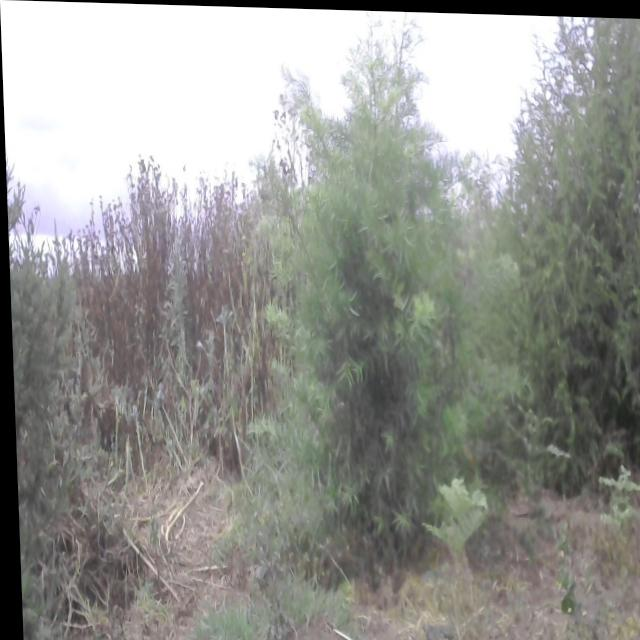Podocarpus falcatus: (242, 6, 494, 612)
cedrus: (484, 15, 640, 509), (6, 172, 88, 640)
